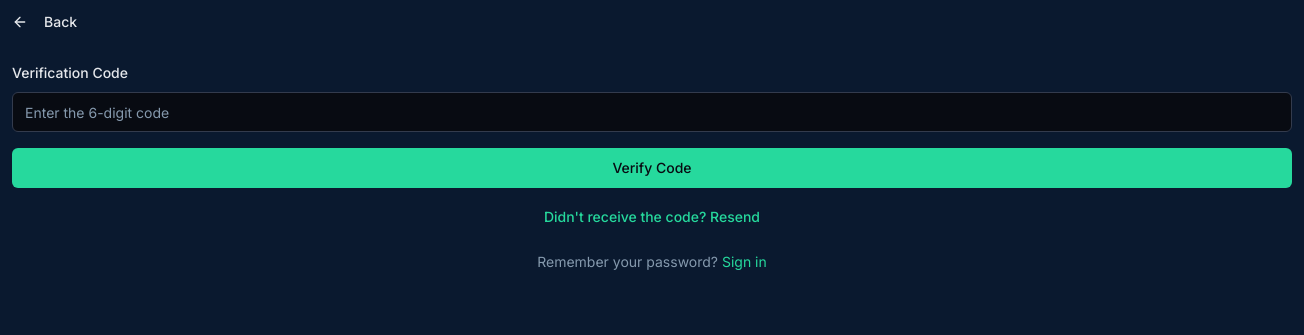
Test: PasswordResetForm › Code Verification Step › should handle successful code verification
Type "123456" into the field with test id "verification-code-input" at (652, 112), box [12,92,1292,132]
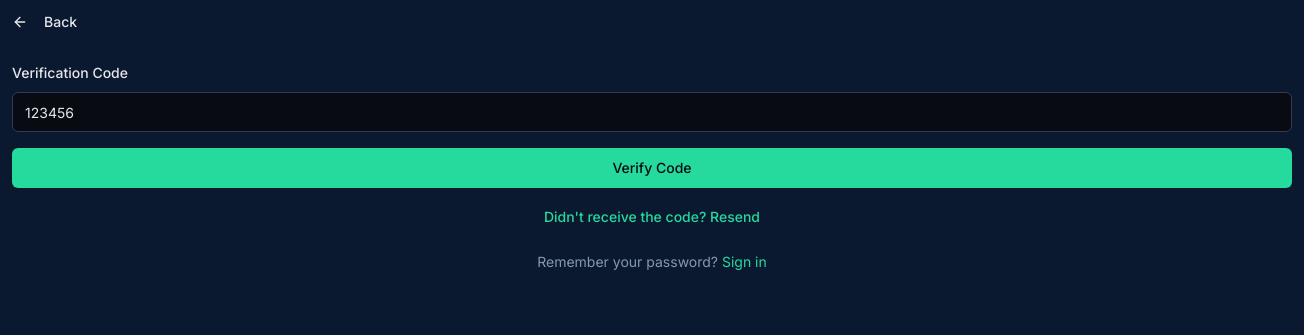
Click the button with test id "verify-code-button" at (652, 168), box [12,148,1292,188]
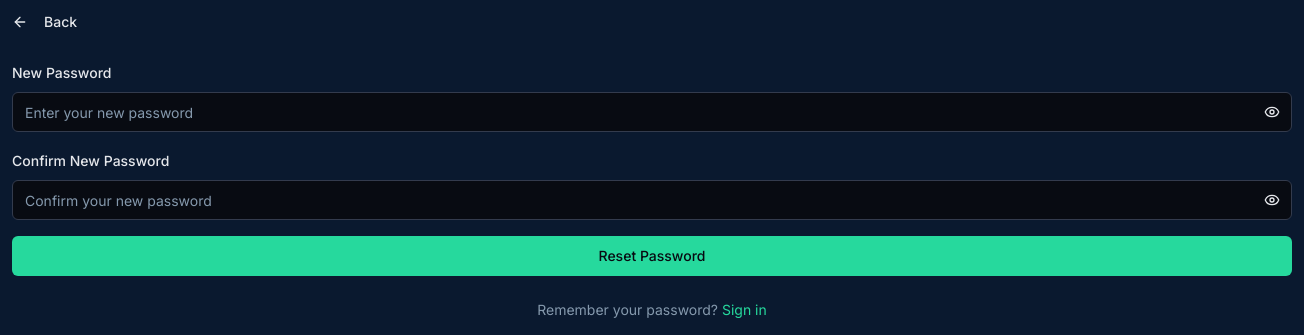
Now the password field with test id "new-password-input" is shown, box [12,92,1292,132]
